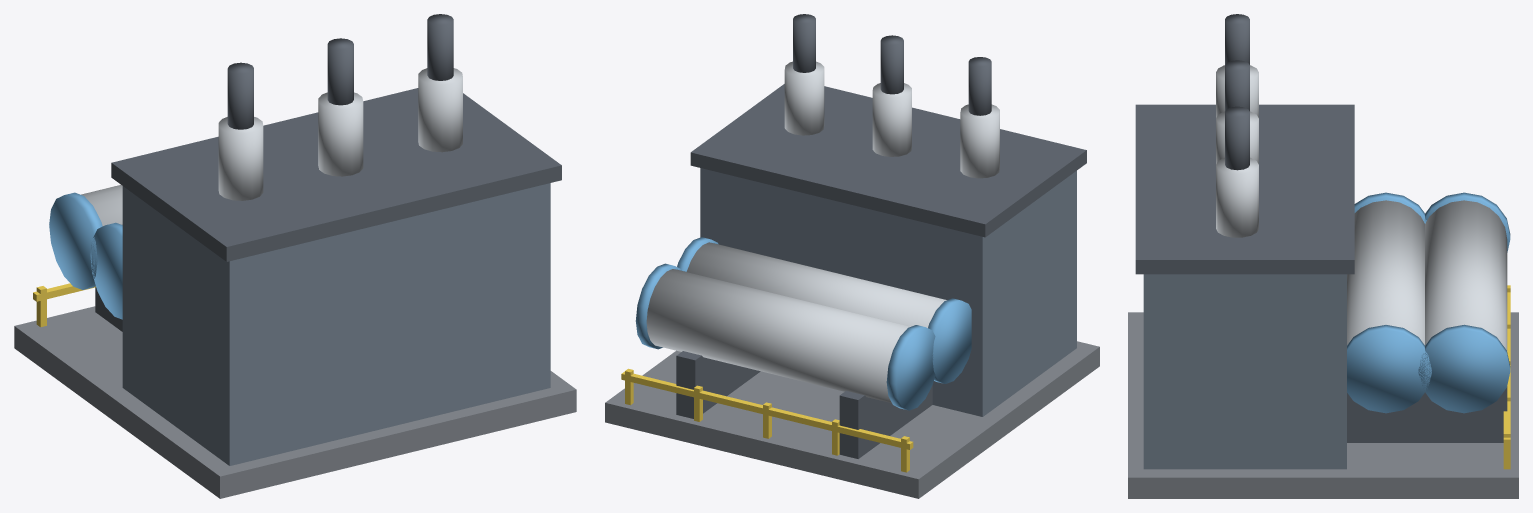
The model's file is compressor_station.glb.
3 renders of one model, left to right at view 1: azimuth 30°, elevation 25°; view 2: azimuth 150°, elevation 25°; view 3: azimuth 270°, elevation 25°, orthographic. The views are drawn at different scales.
Parts seen in each view (by area): view 1: CompHall, CompRoof, Pad, Cap_0.36_-0.40, SilencerBase_0, SilencerBase_1, SilencerBase_2, Cap_0.16_-0.40, SilencerPipe_0, SilencerPipe_2, SilencerPipe_1, Vessel_0.36; view 2: CompHall, CompRoof, Pad, Vessel_0.36, Vessel_0.16, Cap_0.36_-0.40, Cap_0.16_-0.40, SilencerBase_2, SilencerBase_0, SilencerBase_1, Saddle_0.36_-0.26, WalkRailF (+6 smaller); view 3: CompHall, CompRoof, Pad, Vessel_0.36, Vessel_0.16, Cap_0.36_0.40, Cap_0.16_0.40, SilencerBase_2, Saddle_0.16_0.26, Saddle_0.36_0.26, SilencerPipe_2, SilencerPipe_1 (+6 smaller).
Boxes of the visible parts, bbox=[...] form: CompHall: bbox=[122, 183, 550, 465]; CompRoof: bbox=[111, 88, 561, 261]; Pad: bbox=[14, 306, 576, 498]; Cap_0.36_-0.40: bbox=[49, 192, 102, 289]; SilencerBase_0: bbox=[218, 117, 263, 200]; SilencerBase_1: bbox=[318, 92, 363, 176]; SilencerBase_2: bbox=[418, 68, 462, 152]; Cap_0.16_-0.40: bbox=[90, 222, 122, 319]; SilencerPipe_0: bbox=[227, 62, 253, 129]; SilencerPipe_2: bbox=[427, 14, 453, 80]; SilencerPipe_1: bbox=[327, 38, 353, 105]; Vessel_0.36: bbox=[81, 185, 122, 225]; CompHall: bbox=[700, 168, 1076, 416]; CompRoof: bbox=[690, 84, 1086, 237]; Pad: bbox=[605, 341, 1099, 498]; Vessel_0.36: bbox=[646, 269, 910, 403]; Vessel_0.16: bbox=[686, 242, 946, 327]; Cap_0.36_-0.40: bbox=[886, 325, 935, 410]; Cap_0.16_-0.40: bbox=[928, 298, 971, 383]; SilencerBase_2: bbox=[784, 61, 824, 135]; SilencerBase_0: bbox=[960, 104, 999, 178]; SilencerBase_1: bbox=[872, 83, 911, 156]; Saddle_0.36_-0.26: bbox=[839, 391, 894, 458]; WalkRailF: bbox=[621, 371, 913, 449]; CompHall: bbox=[1143, 274, 1346, 469]; CompRoof: bbox=[1135, 104, 1354, 274]; Pad: bbox=[1128, 312, 1518, 498]; Vessel_0.36: bbox=[1425, 200, 1507, 351]; Vessel_0.16: bbox=[1347, 200, 1424, 345]; Cap_0.36_0.40: bbox=[1418, 324, 1510, 413]; Cap_0.16_0.40: bbox=[1347, 325, 1431, 413]; SilencerBase_2: bbox=[1216, 157, 1258, 237]; Saddle_0.16_0.26: bbox=[1347, 392, 1428, 442]; Saddle_0.36_0.26: bbox=[1421, 386, 1507, 442]; SilencerPipe_2: bbox=[1225, 106, 1249, 170]; SilencerPipe_1: bbox=[1225, 60, 1249, 111].
Size of the model in its own units: 1 by 0.99 by 1.
